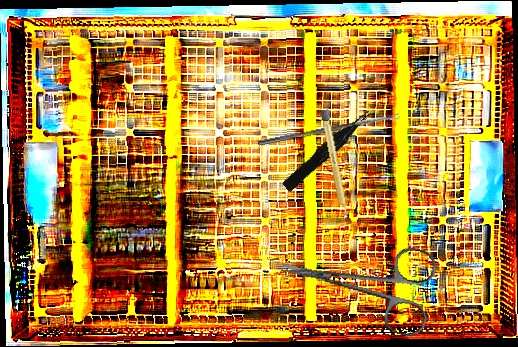Iris Scissors: (272, 222, 441, 339)
Scalpel Handle: (319, 109, 350, 220)
Surgical Spoon: (257, 113, 401, 147)
Tissue Forceps: (278, 107, 379, 193)
